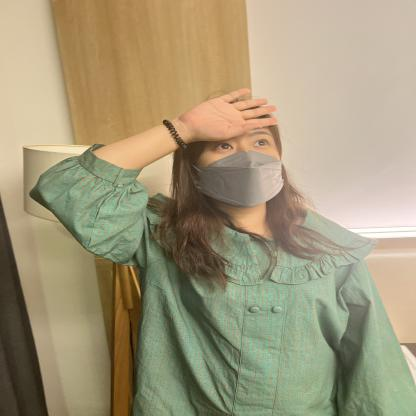Sick: (93, 72, 414, 259)
